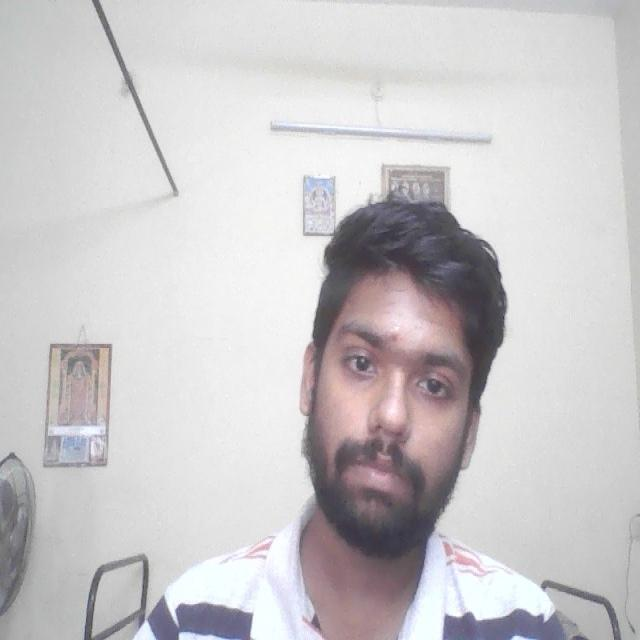Focused: (304, 286, 484, 532)
